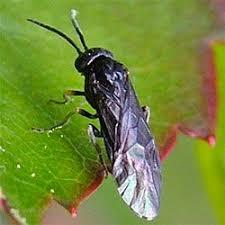insect: (24, 9, 167, 223)
